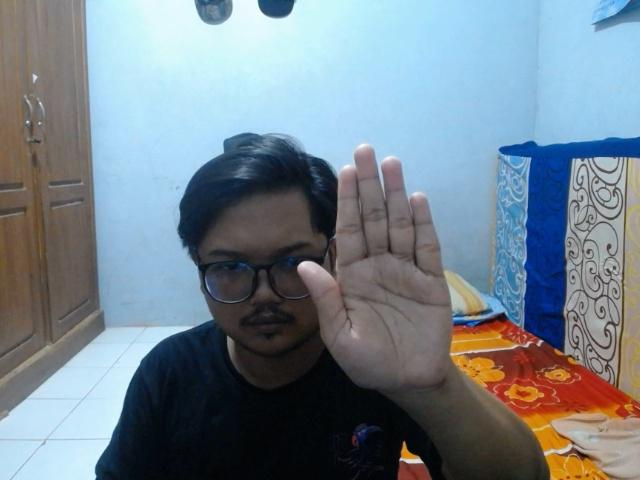Release: (291, 140, 470, 400)
